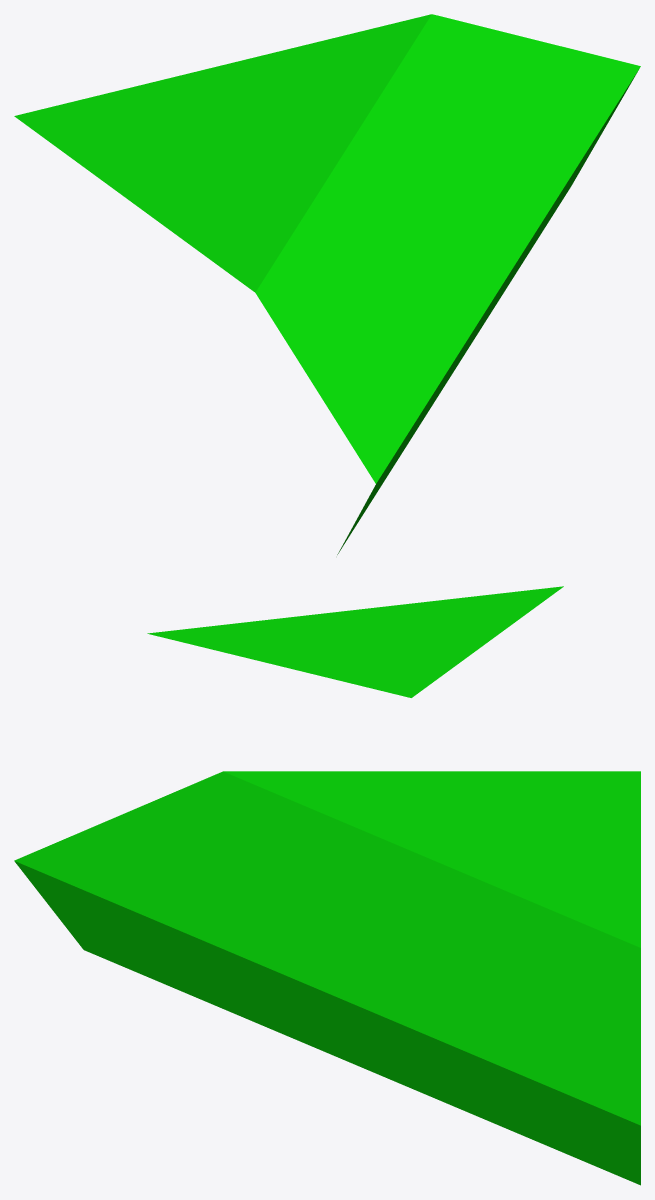
The model's file is Diagonal_TopFloor.glb.
The picture shows the model from 3 angles, top to bottom: view 1: azimuth 30°, elevation 25°; view 2: azimuth 150°, elevation 25°; view 3: azimuth 270°, elevation 25°; orthographic projection. The views are drawn at different scales.
Visible parts, largest first — view 1: Diagonal_TopFloor; view 2: Diagonal_TopFloor; view 3: Diagonal_TopFloor.
Part boxes in pixels (x1=…): Diagonal_TopFloor: x1=14, y1=14, x2=640, y2=554; Diagonal_TopFloor: x1=147, y1=586, x2=563, y2=697; Diagonal_TopFloor: x1=14, y1=771, x2=640, y2=1185.
Bounding box in the file's own units: 0.45 × 0.1414 × 0.45.
